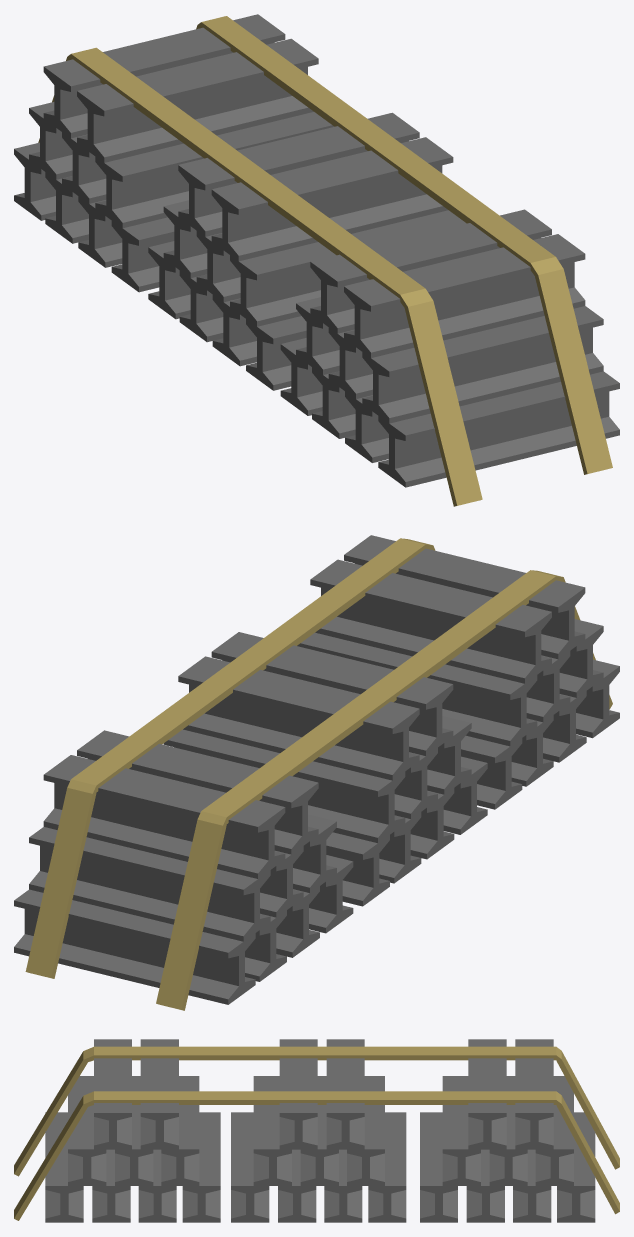
Rendered from Steel.fbx.
3 views of the same model, one above another, from view 1: azimuth 30°, elevation 25°; view 2: azimuth 150°, elevation 25°; view 3: azimuth 270°, elevation 25° (orthographic). The views are drawn at different scales.
Parts seen in each view (by area): view 1: Cube.030, Cube.032, Cube.031, Cube.033; view 2: Cube.032, Cube.031, Cube.030, Cube.033; view 3: Cube.031, Cube.032, Cube.030, Cube.033.
Part boxes in pixels (bbox=[...]): Cube.030: bbox=[280, 209, 619, 487]; Cube.032: bbox=[14, 14, 334, 292]; Cube.031: bbox=[148, 112, 466, 390]; Cube.033: bbox=[38, 16, 612, 506]; Cube.032: bbox=[14, 730, 353, 1004]; Cube.031: bbox=[163, 632, 487, 906]; Cube.030: bbox=[297, 535, 619, 809]; Cube.033: bbox=[25, 538, 612, 1010]; Cube.031: bbox=[231, 1039, 406, 1222]; Cube.032: bbox=[420, 1039, 595, 1222]; Cube.030: bbox=[45, 1039, 220, 1222]; Cube.033: bbox=[14, 1046, 619, 1220].
Size of the model in its own units: 252 by 194 by 879.
